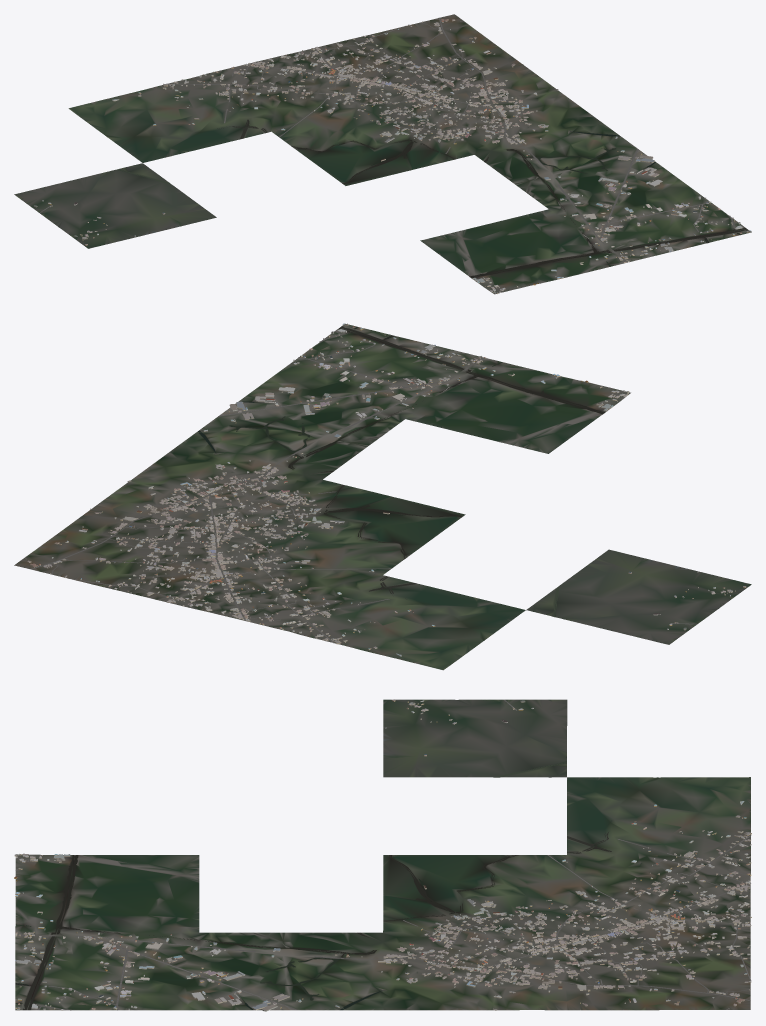
3 renders of one model, top to bottom at view 1: azimuth 30°, elevation 25°; view 2: azimuth 150°, elevation 25°; view 3: azimuth 270°, elevation 25°, orthographic. The views are drawn at different scales.
Parts seen in each view (by area): view 1: ground, buildings, water, roads; view 2: ground, buildings, roads, water; view 3: ground, buildings, water, roads.
Part boxes in pixels (x1,y1,x2,y2): ground: (14,14,751,294); buildings: (33,19,751,293); water: (117,119,748,278); roads: (39,17,742,290); ground: (14,323,751,670); buildings: (27,323,746,656); roads: (25,331,697,643); water: (197,326,604,616); ground: (15,699,750,1010); buildings: (14,699,751,1011); water: (15,762,611,1010); roads: (15,699,751,1010).
Bounding box in the file's own units: 5625 × 30.56 × 5623.
